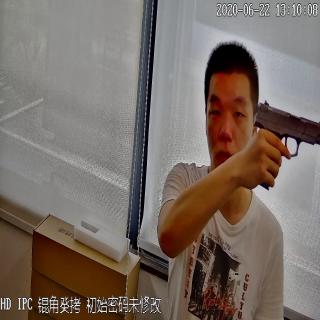gun: (252, 96, 320, 181)
